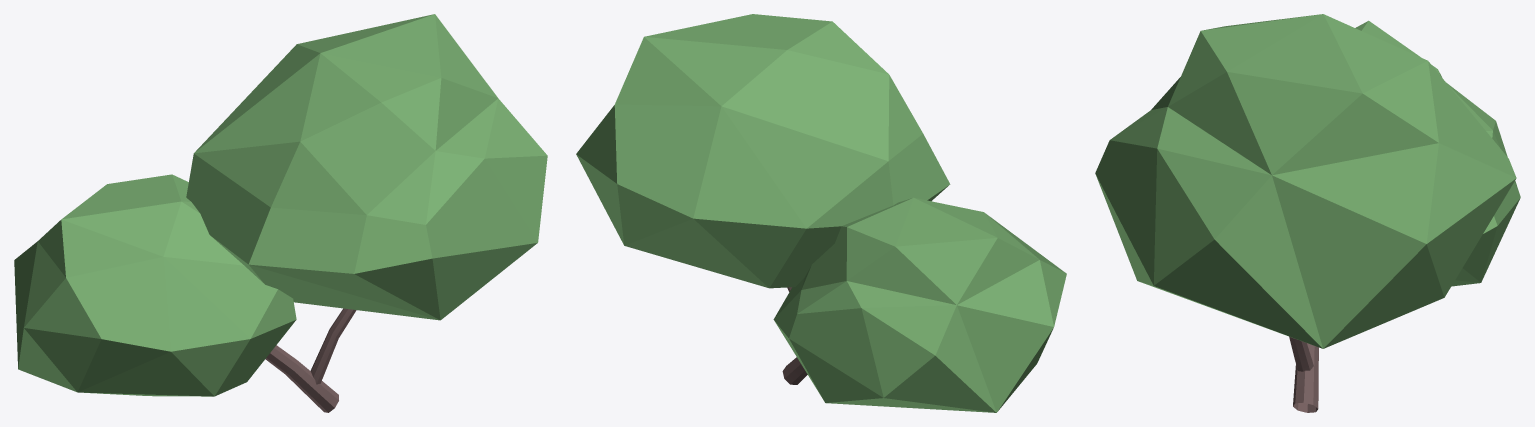
File: Bush.fbx
The picture shows the model from 3 angles, left to right: view 1: azimuth 30°, elevation 25°; view 2: azimuth 150°, elevation 25°; view 3: azimuth 270°, elevation 25°; orthographic projection. The views are drawn at different scales.
Parts seen in each view (by area): view 1: polySurface2653; view 2: polySurface2653; view 3: polySurface2653.
Part boxes in pixels (box(x1,y1,x2,y2)): polySurface2653: box(14, 14, 547, 412); polySurface2653: box(576, 14, 1066, 412); polySurface2653: box(1095, 14, 1520, 412).
Bounding box in the file's own units: 0.0123 × 0.00891 × 0.00857.
